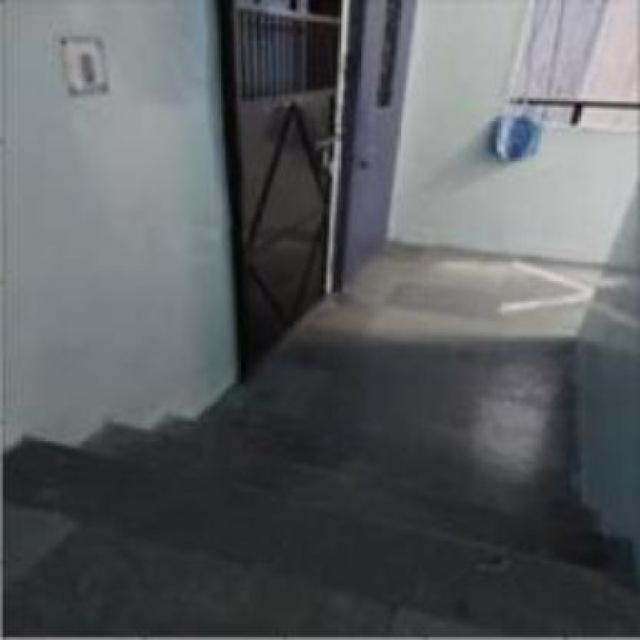stair: (18, 376, 636, 633)
